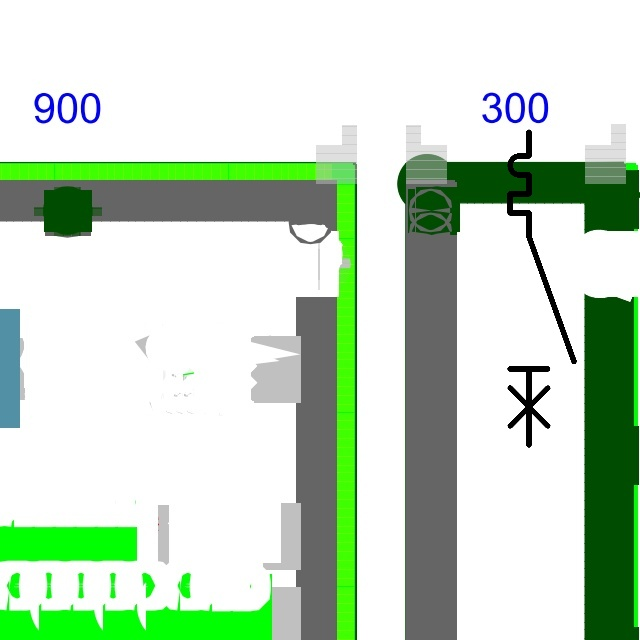interruptor_termomagnetico: (502, 124, 582, 453)
